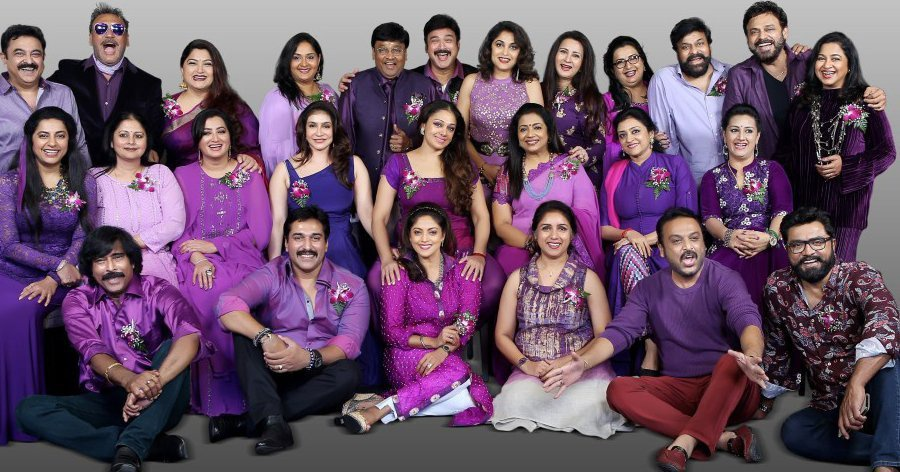bad: (780, 222, 832, 274), (664, 228, 708, 271), (88, 17, 132, 60), (88, 247, 132, 290), (285, 228, 328, 271), (809, 46, 845, 82), (537, 218, 573, 254), (33, 126, 69, 162), (745, 18, 781, 54), (181, 54, 217, 90), (725, 122, 761, 158), (9, 42, 45, 78), (425, 110, 461, 146), (405, 222, 441, 258), (513, 118, 549, 154), (301, 114, 337, 150), (113, 126, 149, 162), (285, 46, 321, 82), (549, 42, 585, 78), (197, 122, 233, 158), (613, 118, 649, 154), (425, 30, 461, 66), (369, 38, 405, 74), (613, 50, 649, 86), (485, 34, 521, 70), (677, 34, 713, 70)
